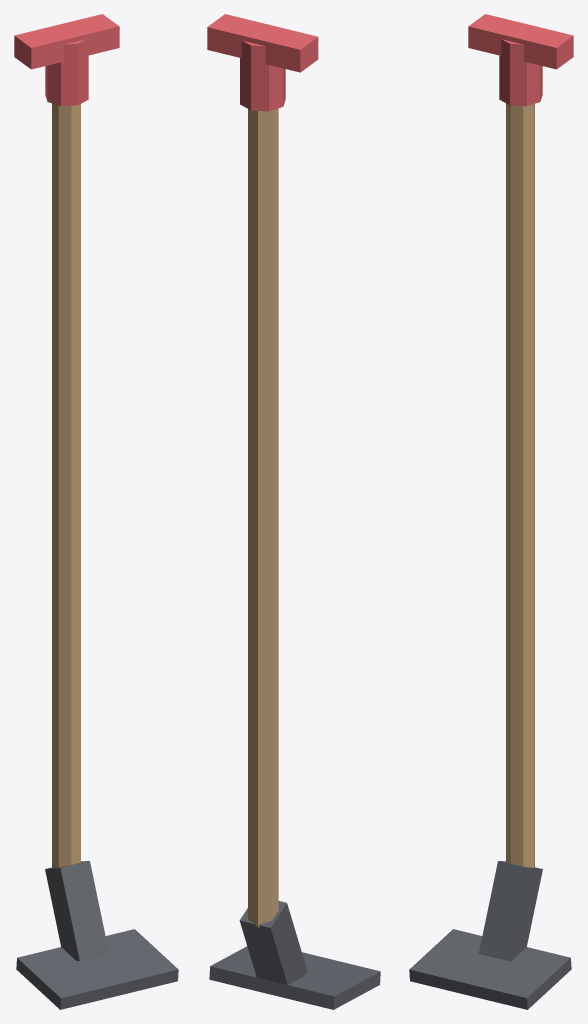
File: lawn-mowing-simulator-kit-garden-hoe-7f6c266d__27373.glb
The picture shows the model from 3 angles, left to right: view 1: azimuth 30°, elevation 25°; view 2: azimuth 150°, elevation 25°; view 3: azimuth 330°, elevation 25°; orthographic projection. The views are drawn at different scales.
Visible parts, largest first — view 1: garden-hoe; view 2: garden-hoe; view 3: garden-hoe.
Part boxes in pixels (left/top/right/bottom): garden-hoe: left=14, top=14, right=178, bottom=1009; garden-hoe: left=207, top=14, right=380, bottom=1009; garden-hoe: left=409, top=14, right=573, bottom=1009.
Size of the model in its own units: 0.2 by 1.5 by 0.1887.
